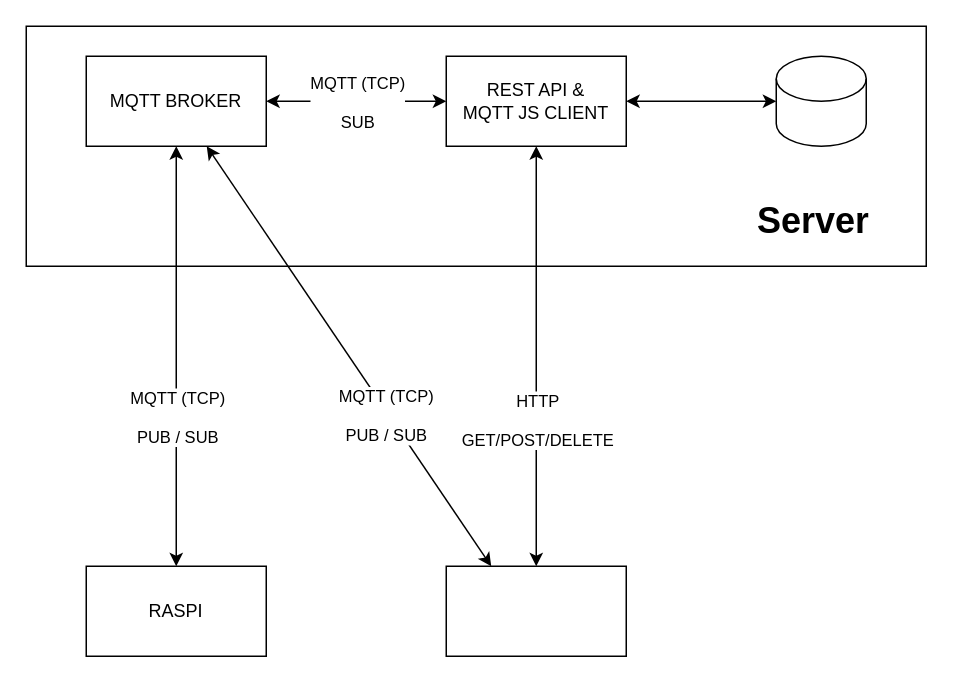
The diagram is 953 pixels wide and 683 high, and some of its shapes have lost their labels. The centre of each missing label's shape, as x and y in pixels:
DASHBOARD APP (ANDROID): point (535, 610)
DB: point (820, 100)
